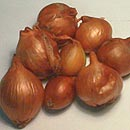onion: (2, 54, 44, 129), (76, 52, 123, 108), (35, 3, 78, 38), (77, 14, 114, 53), (44, 74, 77, 115)
